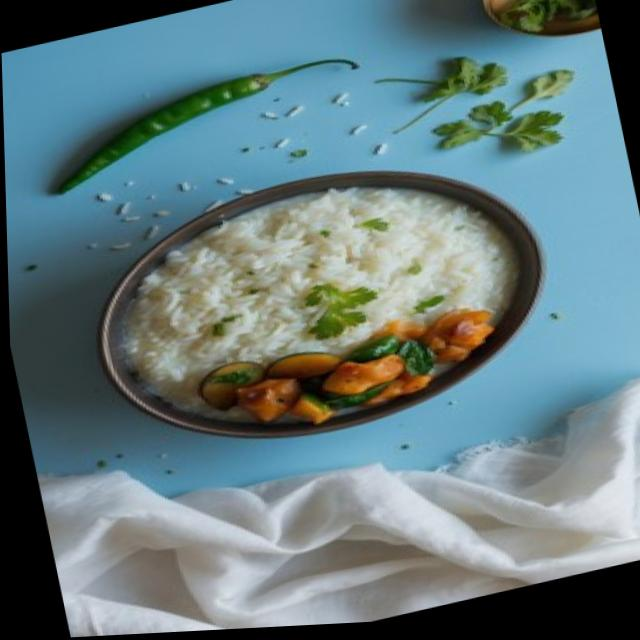CURD RICE: (111, 172, 519, 393)
VEGGIES: (184, 313, 499, 431)
